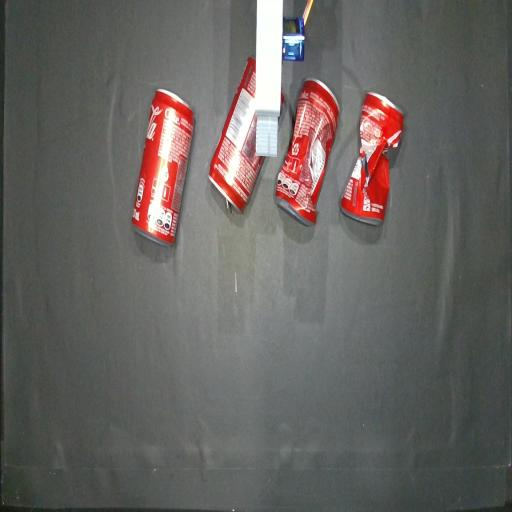lata: (132, 89, 194, 245), (209, 56, 263, 212), (281, 93, 284, 111)
lata_defectuoso: (275, 79, 339, 225), (340, 92, 404, 225)
